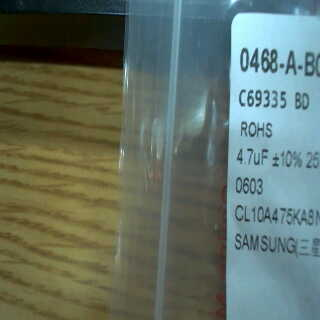4.7uF: (232, 144, 274, 172)
